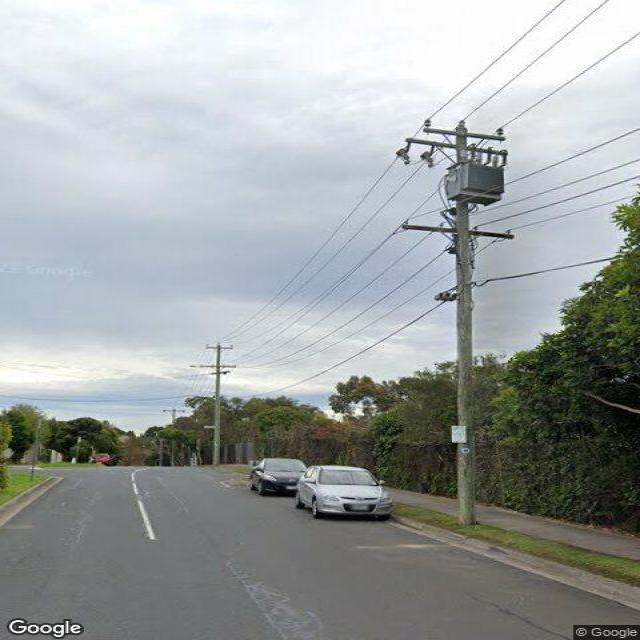HV-transmission: (393, 118, 515, 167), (205, 342, 234, 350)
crossarm: (400, 220, 513, 240), (405, 137, 508, 155), (422, 128, 505, 141), (200, 365, 238, 368), (205, 346, 232, 350), (210, 371, 232, 375), (162, 410, 185, 412)
timber-pole: (455, 126, 477, 527), (212, 343, 222, 467), (171, 408, 176, 467)
transformer: (444, 153, 508, 207)
